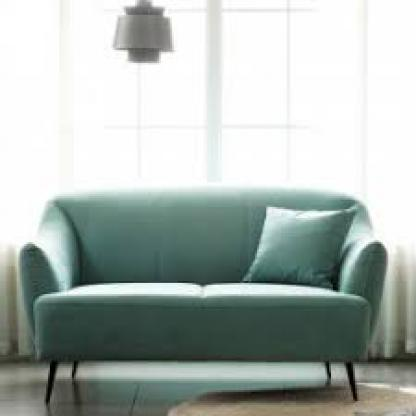sofa: (26, 187, 377, 390)
